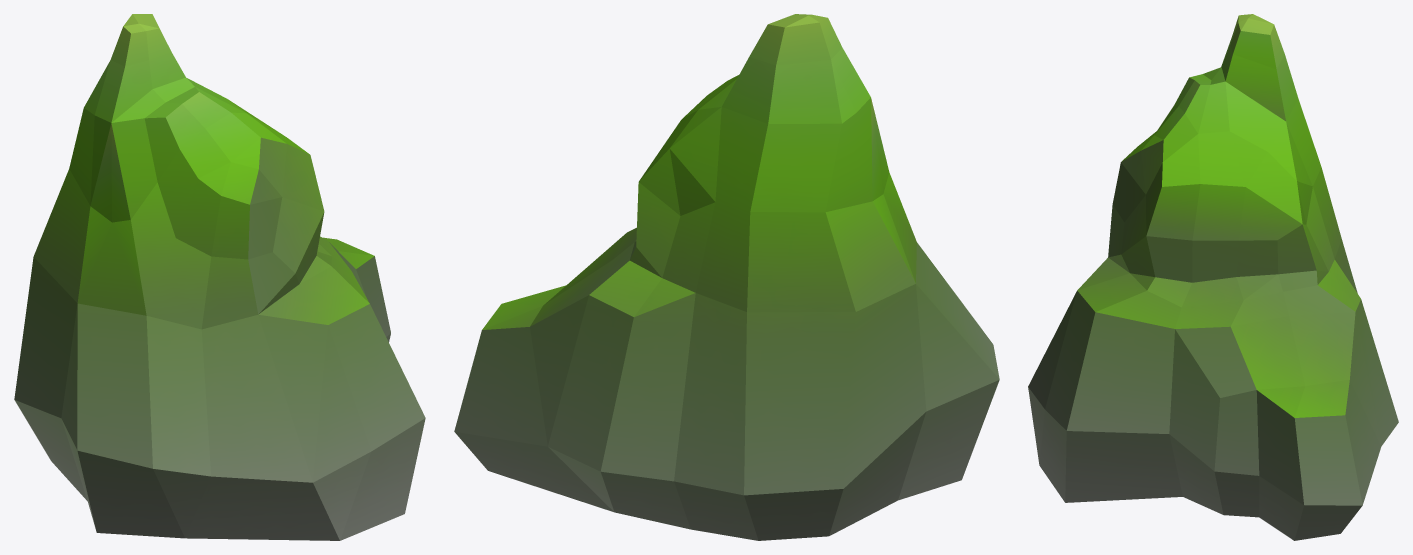
Rendered from RockMoss1.fbx.
3 views of the same model, side by side, from view 1: azimuth 30°, elevation 25°; view 2: azimuth 150°, elevation 25°; view 3: azimuth 270°, elevation 25° (orthographic). The views are drawn at different scales.
Visible parts, largest first — view 1: RockMoss1; view 2: RockMoss1; view 3: RockMoss1.
Part boxes in pixels (bbox=[...]): RockMoss1: bbox=[14, 14, 425, 540]; RockMoss1: bbox=[454, 14, 999, 540]; RockMoss1: bbox=[1028, 14, 1398, 540].
Size of the model in its own units: 101 by 109 by 88.66.
